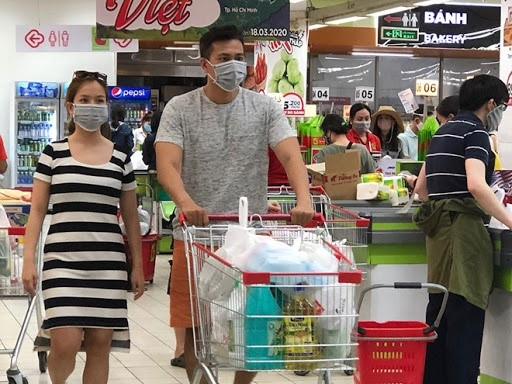face_with_mask: (197, 26, 248, 97), (67, 69, 111, 134), (460, 75, 506, 134), (347, 103, 376, 138), (317, 114, 343, 143), (378, 103, 401, 135)
